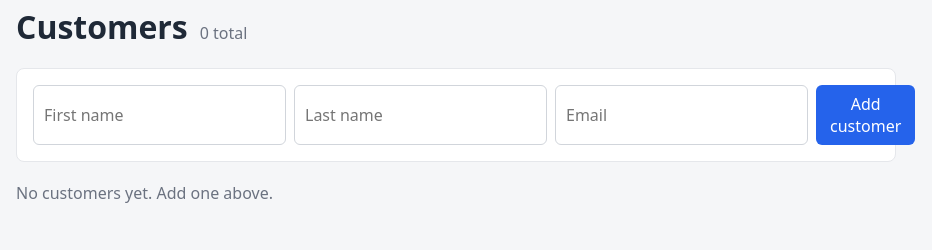
Test case: shows the API error when adding fails
This screenshot has width=932, height=250.
Expected: the text "No customers yet. Add one above." is shown, [16,182,273,204]
Step 1. Type "Ada" into the field labelled "First name" → (160, 115), box [33,85,286,145]
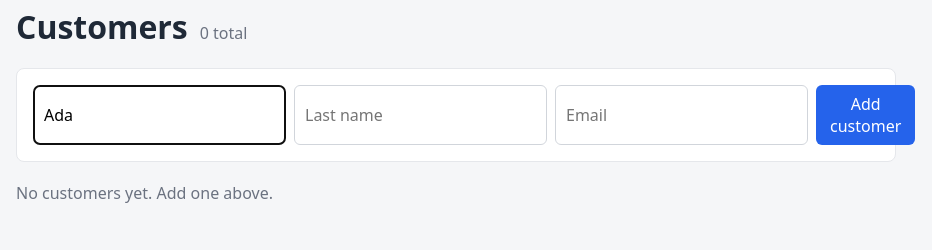
Step 2. Type "Lovelace" into the field labelled "Last name" → (420, 115), box [294,85,547,145]
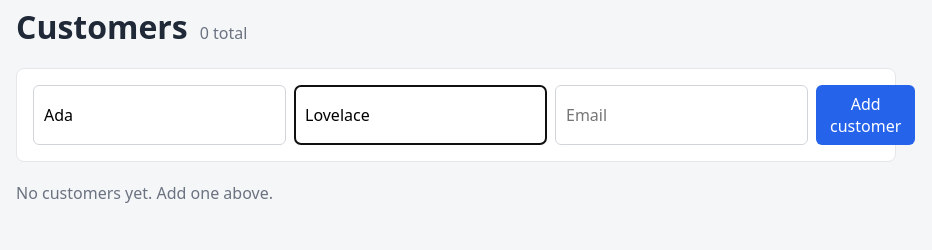
Step 3. Type "ada@example.com" into the field labelled "Email" → (682, 115), box [555,85,808,145]
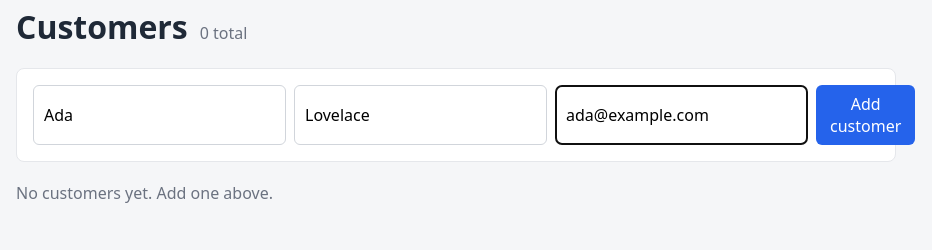
Step 4. Click the button "Add customer" → click(866, 115), box [816,85,915,145]
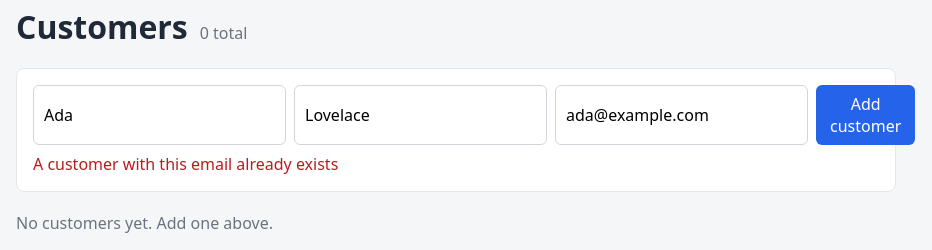
Now the message shows "already exists", box [33,153,338,175]
